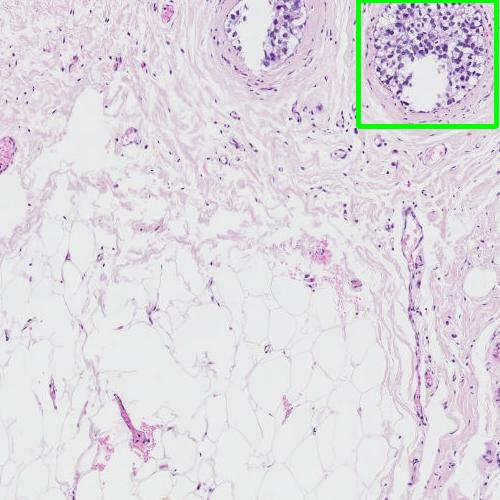DCIS: (358, 0, 496, 126)
